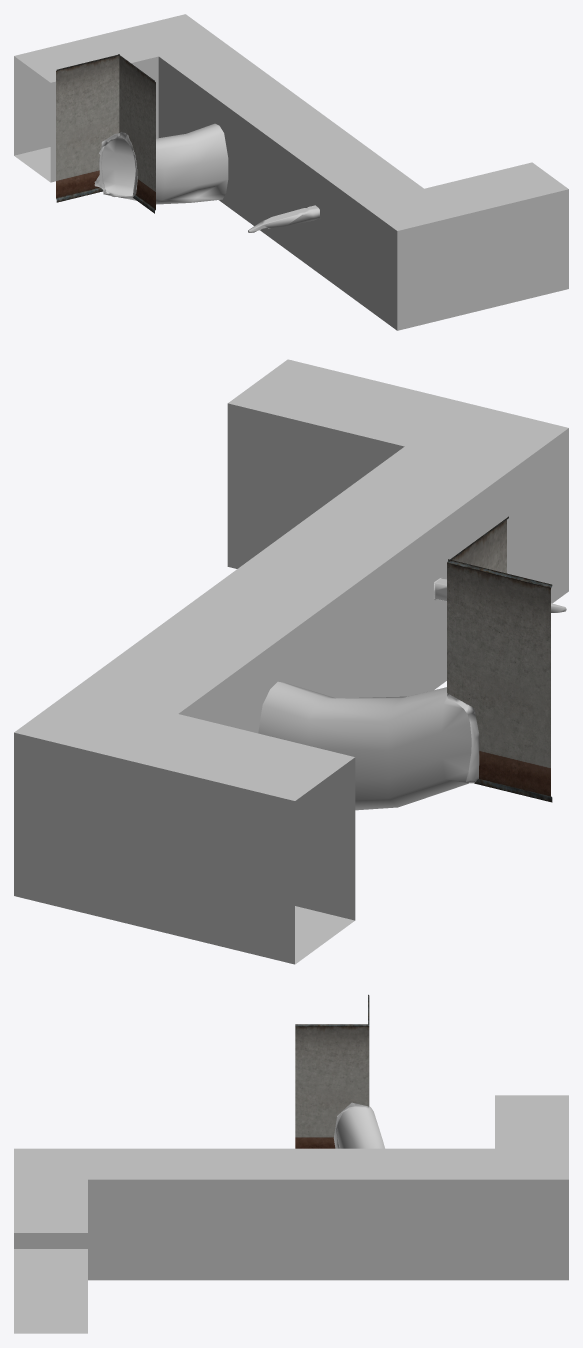
File: 01_01_computer_room_maintenance_tunnel.dae
3 views of the same model, one above another, from view 1: azimuth 30°, elevation 25°; view 2: azimuth 150°, elevation 25°; view 3: azimuth 270°, elevation 25° (orthographic). The views are drawn at different scales.
Parts seen in each view (by area): view 1: polySurface2050, polySurface2048, pCube1, polySurface2052, polySurface2047; view 2: polySurface2050, polySurface2048, pCube1, polySurface2047; view 3: polySurface2050, polySurface2048, pCube1.
Boxes of the visible parts, <box> form: polySurface2050: <box>14,14,568,330</box>; polySurface2048: <box>56,54,155,213</box>; pCube1: <box>102,123,228,204</box>; polySurface2052: <box>248,205,320,232</box>; polySurface2047: <box>94,132,137,198</box>; polySurface2050: <box>14,359,568,964</box>; polySurface2048: <box>447,516,552,802</box>; pCube1: <box>258,681,471,810</box>; polySurface2047: <box>447,693,479,783</box>; polySurface2050: <box>14,1095,568,1333</box>; polySurface2048: <box>295,994,369,1148</box>; pCube1: <box>337,1107,384,1148</box>.
Bounding box in the file's own units: 10.6 × 5.2 × 15.
